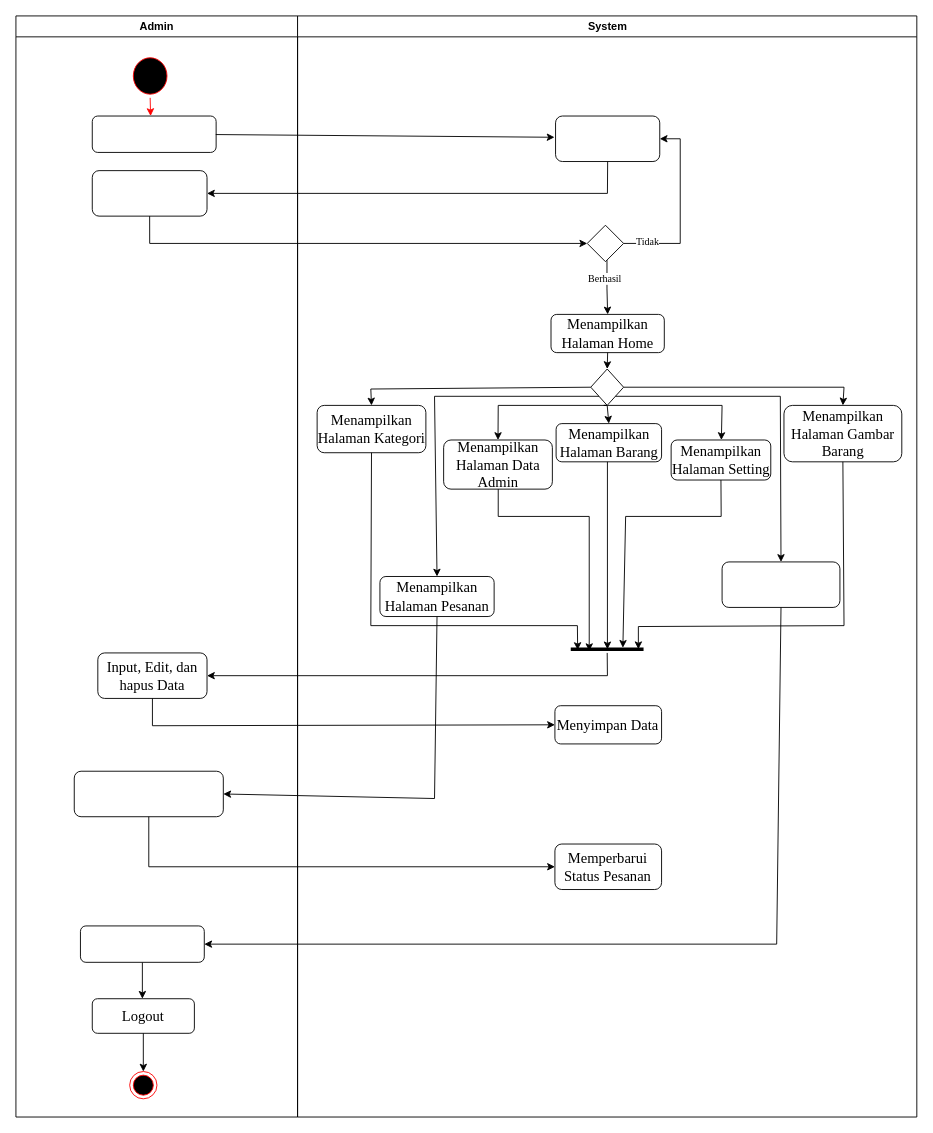
Image size: 933x1133. Some labels were removed from this diagram. Each missing label, with the centre of its shape:
Input Username dan Password: (149,193)
Konfirmasi Pembayaran dan Proses Pesanan: (148,793)
Membuka Aplikasi: (153,133)
Menampilkan Halaman Laporan: (780,584)
Menampilkan Halaman Login: (607,138)
Mencetak Laporan: (142,943)
